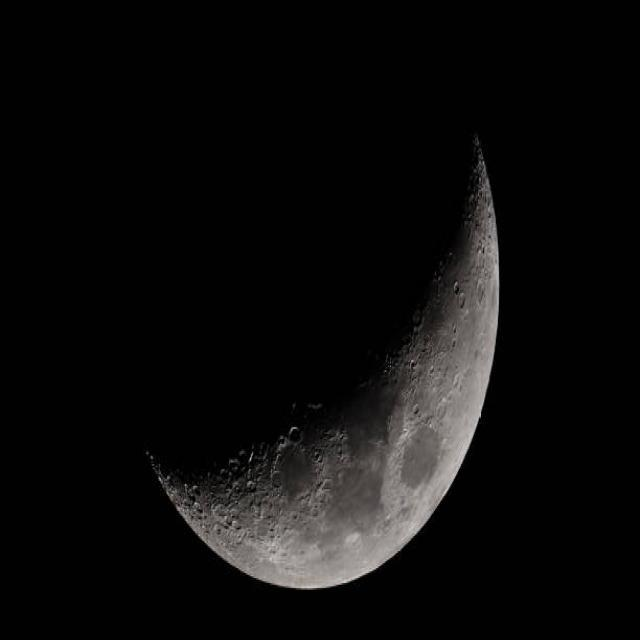moon: (92, 18, 501, 586)
